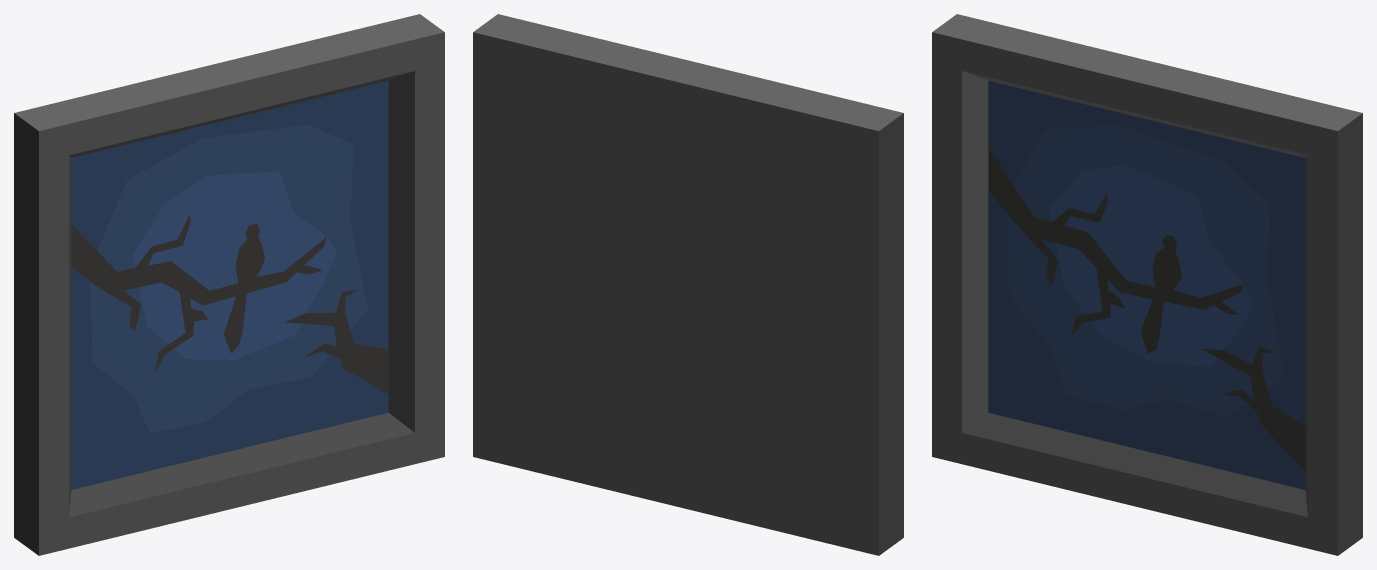
File: AI_Prop_Painting_03.fbx
3 views of the same model, side by side, from view 1: azimuth 30°, elevation 25°; view 2: azimuth 150°, elevation 25°; view 3: azimuth 330°, elevation 25° (orthographic).
Visible parts, largest first — view 1: AI_Prop_Painting_03; view 2: AI_Prop_Painting_03; view 3: AI_Prop_Painting_03.
Part boxes in pixels (left/top/right/bottom): AI_Prop_Painting_03: left=14, top=14, right=444, bottom=555; AI_Prop_Painting_03: left=473, top=14, right=903, bottom=555; AI_Prop_Painting_03: left=932, top=14, right=1362, bottom=555.
Size of the model in its own units: 1.35 by 1.35 by 0.1433.
